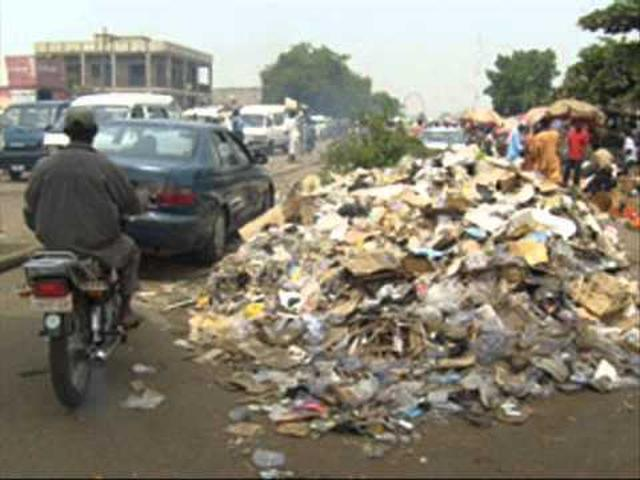garbage: (293, 194, 592, 362)
